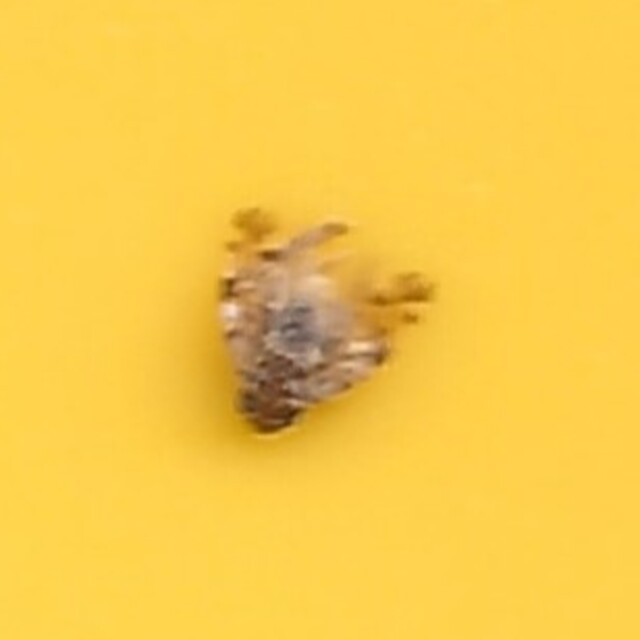Hemiptera: (208, 206, 432, 434)
